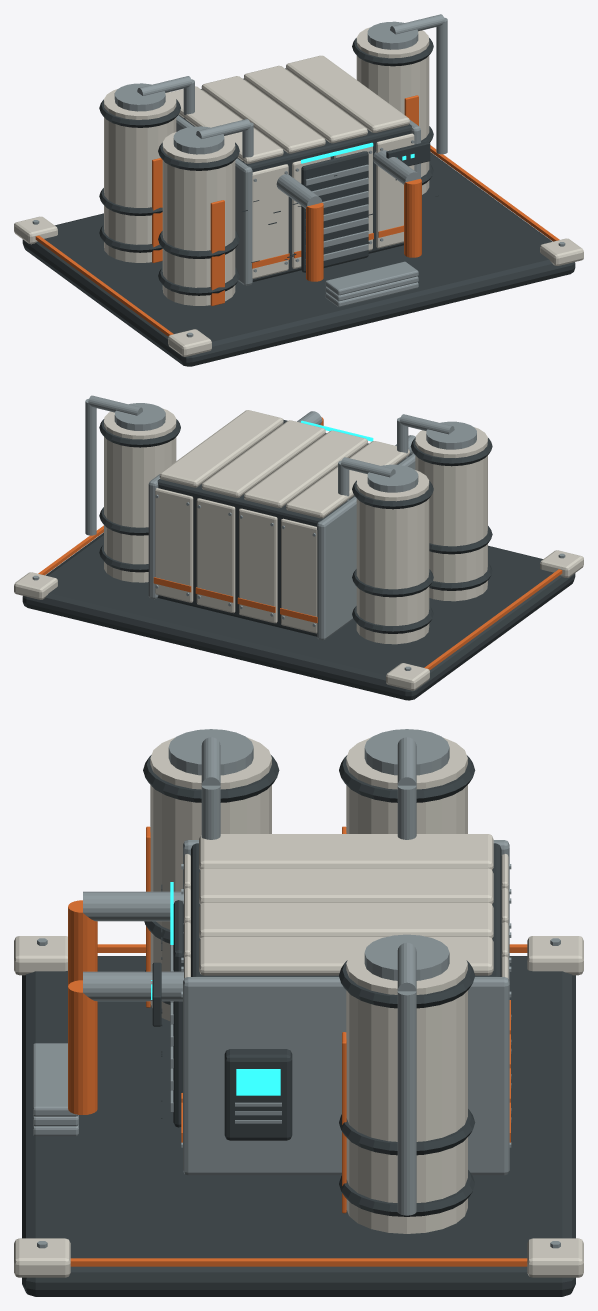
Rendered from SM_CoolingSystemsPlant_Body.fbx.
The picture shows the model from 3 angles, top to bottom: view 1: azimuth 30°, elevation 25°; view 2: azimuth 150°, elevation 25°; view 3: azimuth 270°, elevation 25°; orthographic projection. The views are drawn at different scales.
Visible parts, largest first — view 1: SM_CoolingSystemsPlant_Body; view 2: SM_CoolingSystemsPlant_Body; view 3: SM_CoolingSystemsPlant_Body.
Boxes of the visible parts, box(x1,y1,x2,y2) form: SM_CoolingSystemsPlant_Body: box(14, 14, 583, 366); SM_CoolingSystemsPlant_Body: box(14, 395, 583, 700); SM_CoolingSystemsPlant_Body: box(14, 729, 583, 1296).
Bounding box in the file's own units: 572 × 422 × 247.
